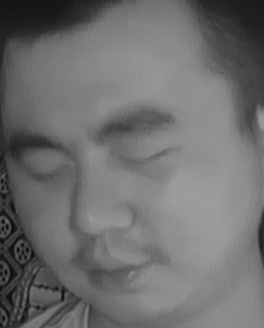blink: (122, 139, 172, 176), (24, 154, 73, 190)
mouth: (78, 247, 157, 297)
